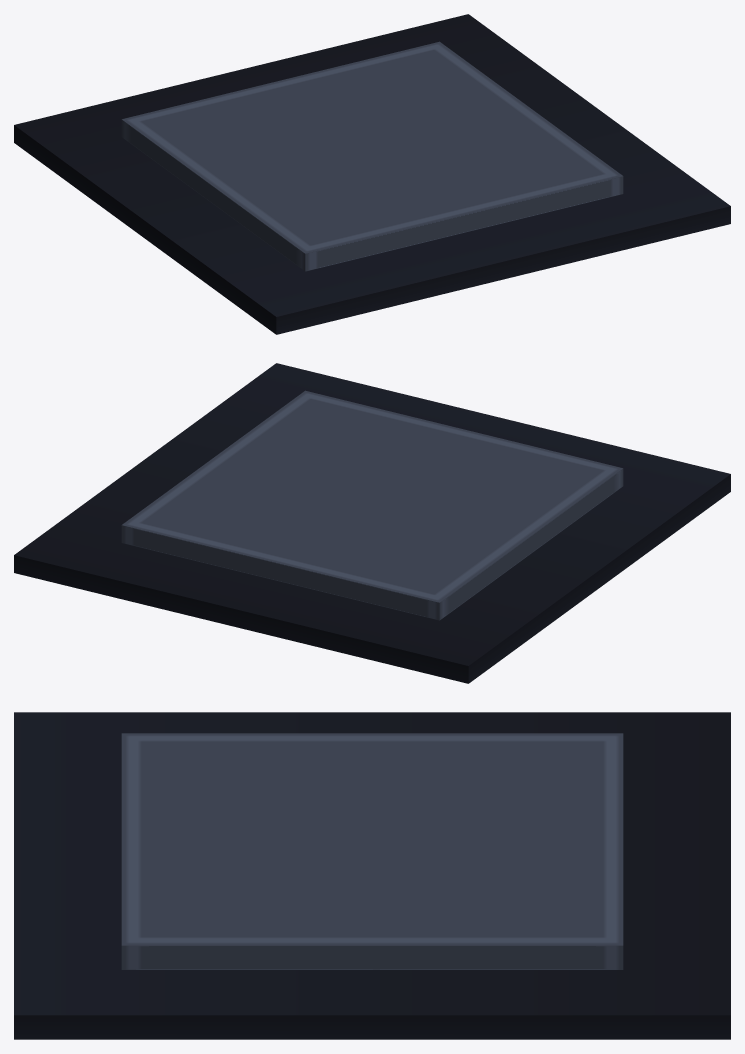
Rendered from KIT_Floor_4x4_Chasm.glb.
3 renders of one model, top to bottom at view 1: azimuth 30°, elevation 25°; view 2: azimuth 150°, elevation 25°; view 3: azimuth 270°, elevation 25°, orthographic. The views are drawn at different scales.
Parts seen in each view (by area): view 1: KIT_Floor_4x4_Chasm; view 2: KIT_Floor_4x4_Chasm; view 3: KIT_Floor_4x4_Chasm.
Part boxes in pixels (x1,y1,x2,y2): KIT_Floor_4x4_Chasm: (14,14,730,334); KIT_Floor_4x4_Chasm: (14,363,730,683); KIT_Floor_4x4_Chasm: (14,712,730,1039).
Bounding box in the file's own units: 4 × 0.3 × 4.
1 material, 1 textured.
